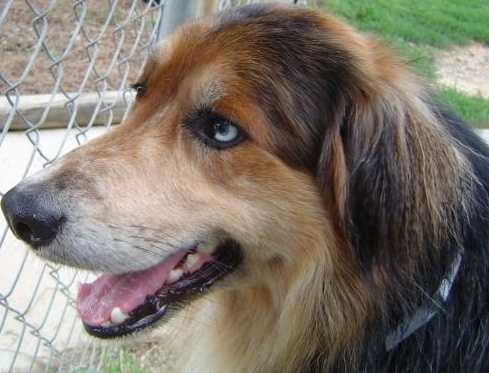dog: (29, 0, 412, 364)
